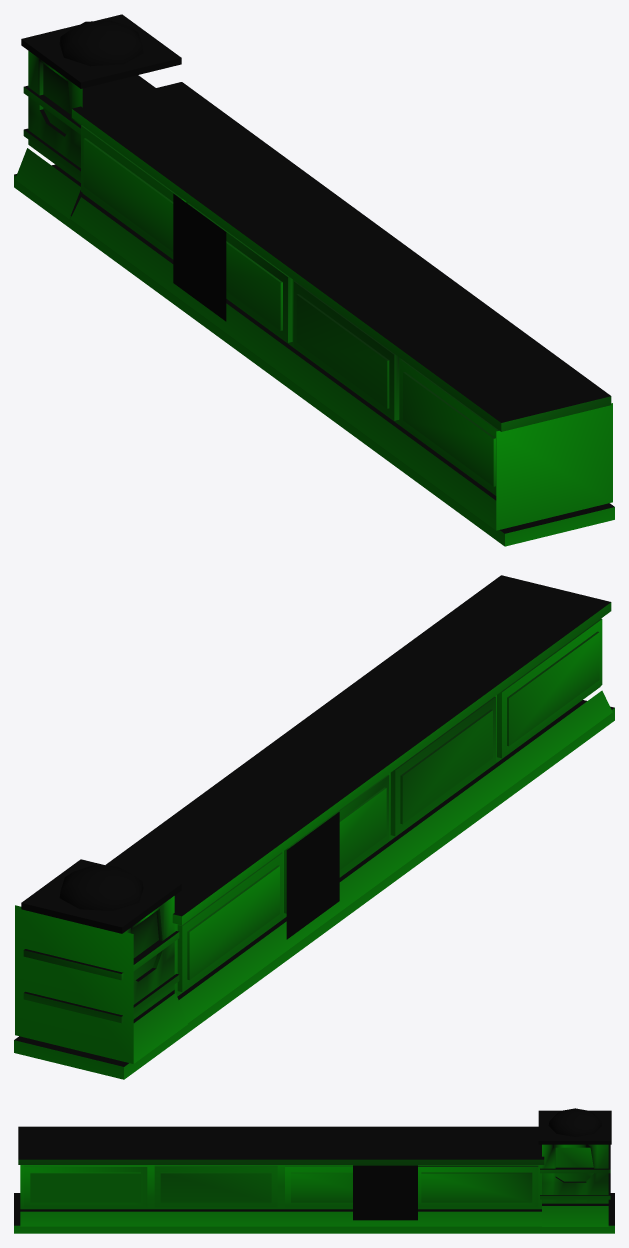
File: s_lightwall.glb
3 views of the same model, one above another, from view 1: azimuth 30°, elevation 25°; view 2: azimuth 150°, elevation 25°; view 3: azimuth 270°, elevation 25° (orthographic). The views are drawn at different scales.
Visible parts, largest first — view 1: lod0; view 2: lod0; view 3: lod0.
Boxes of the visible parts, <box> form: lod0: <box>14,14,614,546</box>; lod0: <box>14,575,614,1079</box>; lod0: <box>14,1108,614,1233</box>.
Size of what is drawn, in the model's own units: 3.88 by 5.36 by 27.79.
